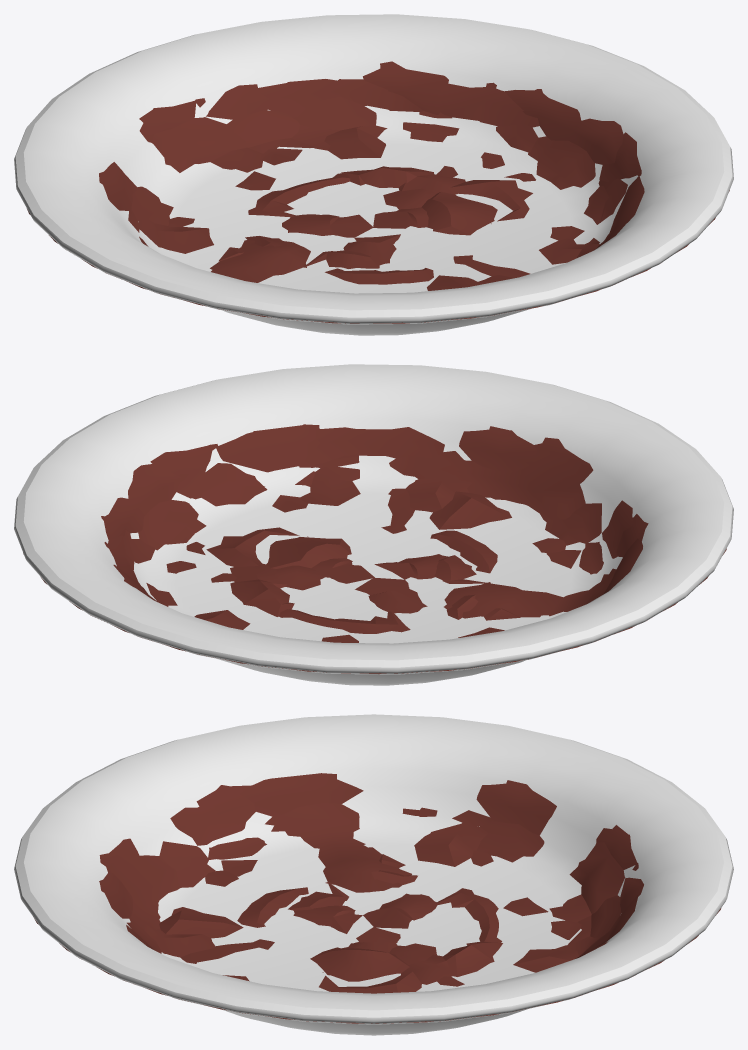
File: DirtPlate.fbx
3 renders of one model, top to bottom at view 1: azimuth 30°, elevation 25°; view 2: azimuth 150°, elevation 25°; view 3: azimuth 270°, elevation 25°, orthographic.
Visible parts, largest first — view 1: Plate, Dirt 2, Dirt 3, Dirt 4, Dirt; view 2: Plate, Dirt 4, Dirt 3, Dirt 2, Dirt; view 3: Plate, Dirt 2, Dirt 4, Dirt 3, Dirt.
Boxes of the visible parts, bbox=[...] form: Plate: bbox=[14, 14, 733, 335]; Dirt 2: bbox=[99, 84, 641, 323]; Dirt 3: bbox=[106, 79, 644, 323]; Dirt 4: bbox=[27, 61, 729, 323]; Dirt: bbox=[245, 82, 623, 284]; Plate: bbox=[14, 364, 733, 685]; Dirt 4: bbox=[23, 437, 726, 674]; Dirt 3: bbox=[92, 424, 648, 673]; Dirt 2: bbox=[130, 427, 642, 673]; Dirt: bbox=[101, 464, 497, 633]; Plate: bbox=[14, 714, 733, 1035]; Dirt 2: bbox=[126, 773, 643, 1023]; Dirt 4: bbox=[34, 804, 721, 1023]; Dirt 3: bbox=[79, 785, 638, 1023]; Dirt: bbox=[237, 845, 501, 993].
Size of the model in its own units: 199 by 27.81 by 199.
